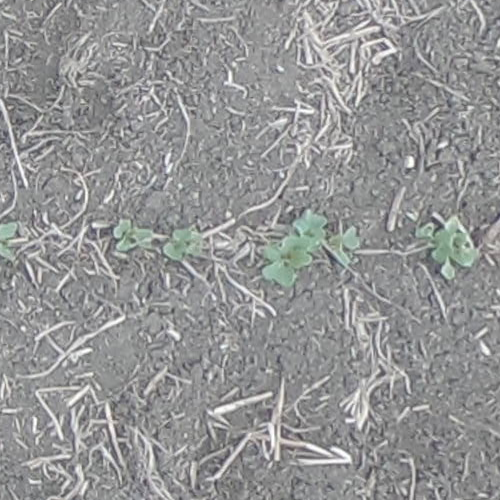clumped: (259, 210, 361, 289)
isolated: (414, 217, 482, 283), (161, 227, 207, 262), (112, 217, 156, 252), (0, 220, 21, 264)
